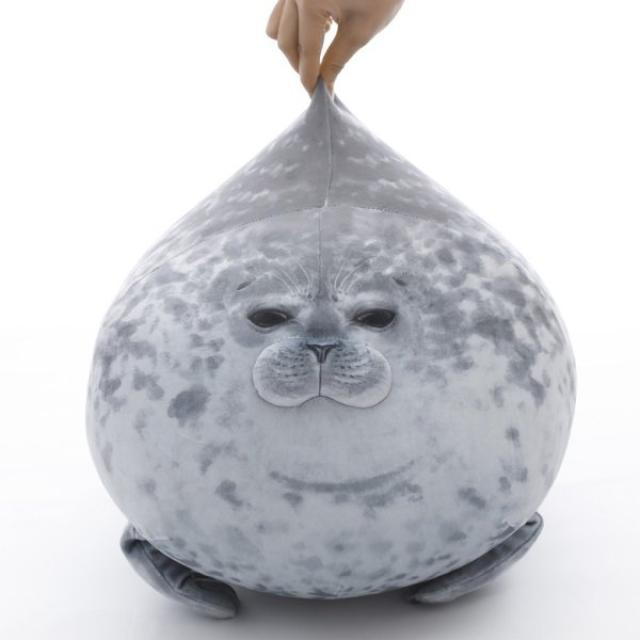WaterDog: (76, 112, 582, 616)
